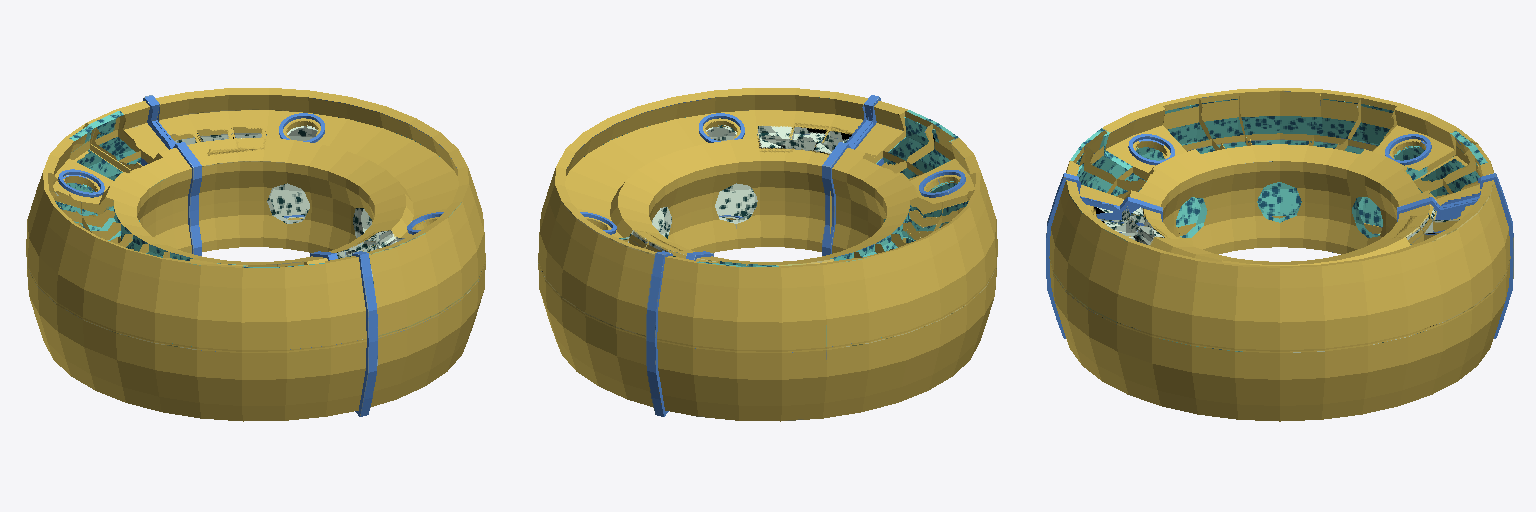
The picture shows the model from 3 angles: view 1: azimuth 30°, elevation 25°; view 2: azimuth 150°, elevation 25°; view 3: azimuth 270°, elevation 25°; orthographic projection.
Visible parts, largest first — view 1: base_ground; view 2: base_ground; view 3: base_ground.
Part boxes in pixels (left/top/right/bottom): base_ground: left=26, top=88, right=485, bottom=421; base_ground: left=538, top=88, right=997, bottom=421; base_ground: left=1046, top=88, right=1513, bottom=421.
Size of the model in its own units: 31.66 by 12.31 by 32.22.
1 materials, 1 textured.